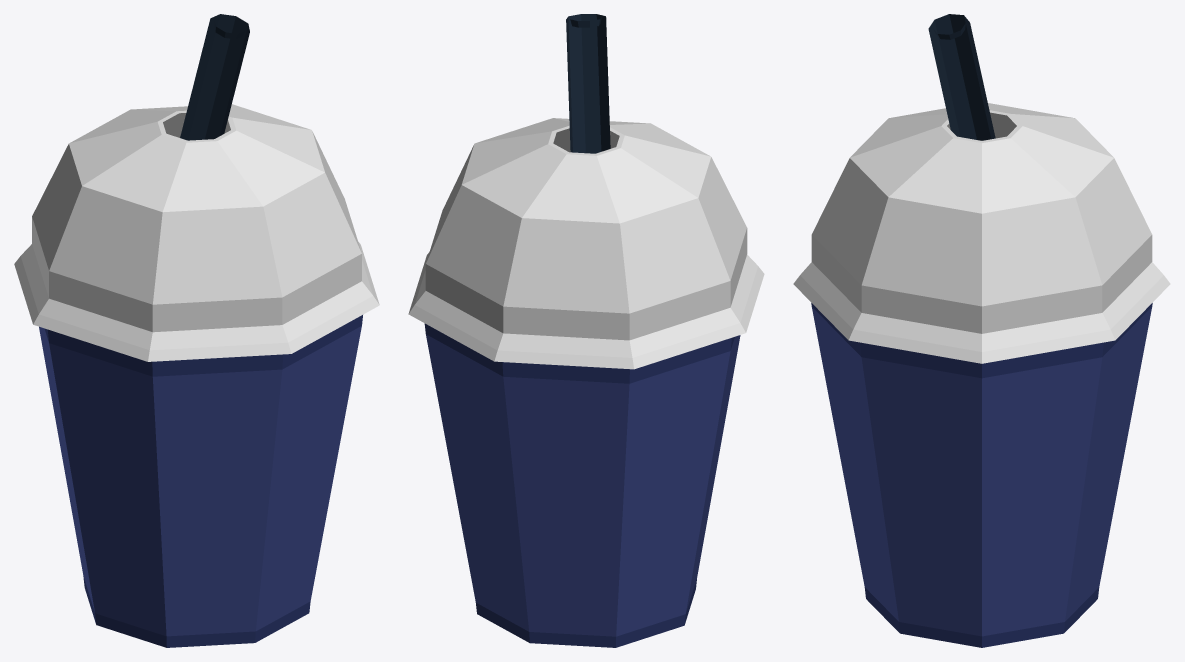
File: Potion.BlueberryBoba.fbx
3 renders of one model, left to right at view 1: azimuth 30°, elevation 25°; view 2: azimuth 150°, elevation 25°; view 3: azimuth 270°, elevation 25°, orthographic. The views are drawn at different scales.
Visible parts, largest first — view 1: Potion.BlueberryBoba; view 2: Potion.BlueberryBoba; view 3: Potion.BlueberryBoba.
Part boxes in pixels (x1=…): Potion.BlueberryBoba: x1=14, y1=14, x2=379, y2=647; Potion.BlueberryBoba: x1=408, y1=14, x2=764, y2=647; Potion.BlueberryBoba: x1=793, y1=14, x2=1170, y2=647.
Size of the model in its own units: 45.69 by 78.26 by 45.69.
